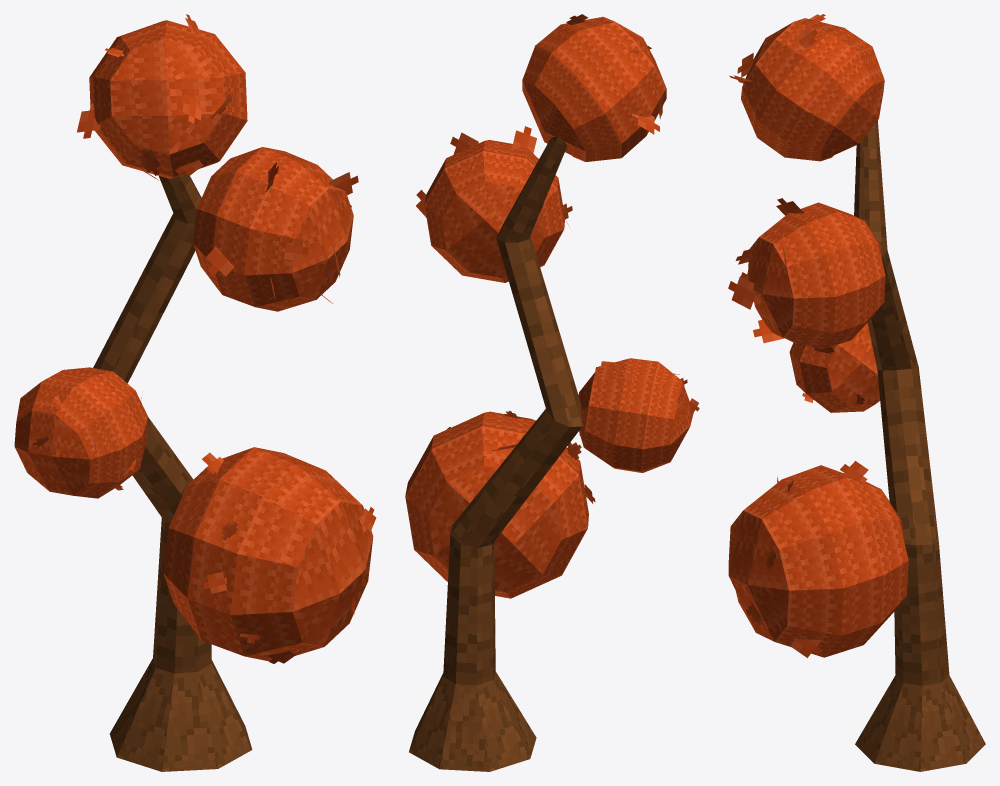
The model's file is Arbre var2.glb.
3 renders of one model, left to right at view 1: azimuth 30°, elevation 25°; view 2: azimuth 150°, elevation 25°; view 3: azimuth 270°, elevation 25°, orthographic. The views are drawn at different scales.
Parts seen in each view (by area): view 1: Cube.002; view 2: Cube.002; view 3: Cube.002.
Part boxes in pixels (x1=…): Cube.002: x1=14, y1=14, x2=376, y2=771; Cube.002: x1=405, y1=14, x2=699, y2=771; Cube.002: x1=728, y1=14, x2=985, y2=771.
Size of the model in its own units: 1.43 by 3.38 by 1.14.
Materials: 38 (38 with a texture image).
